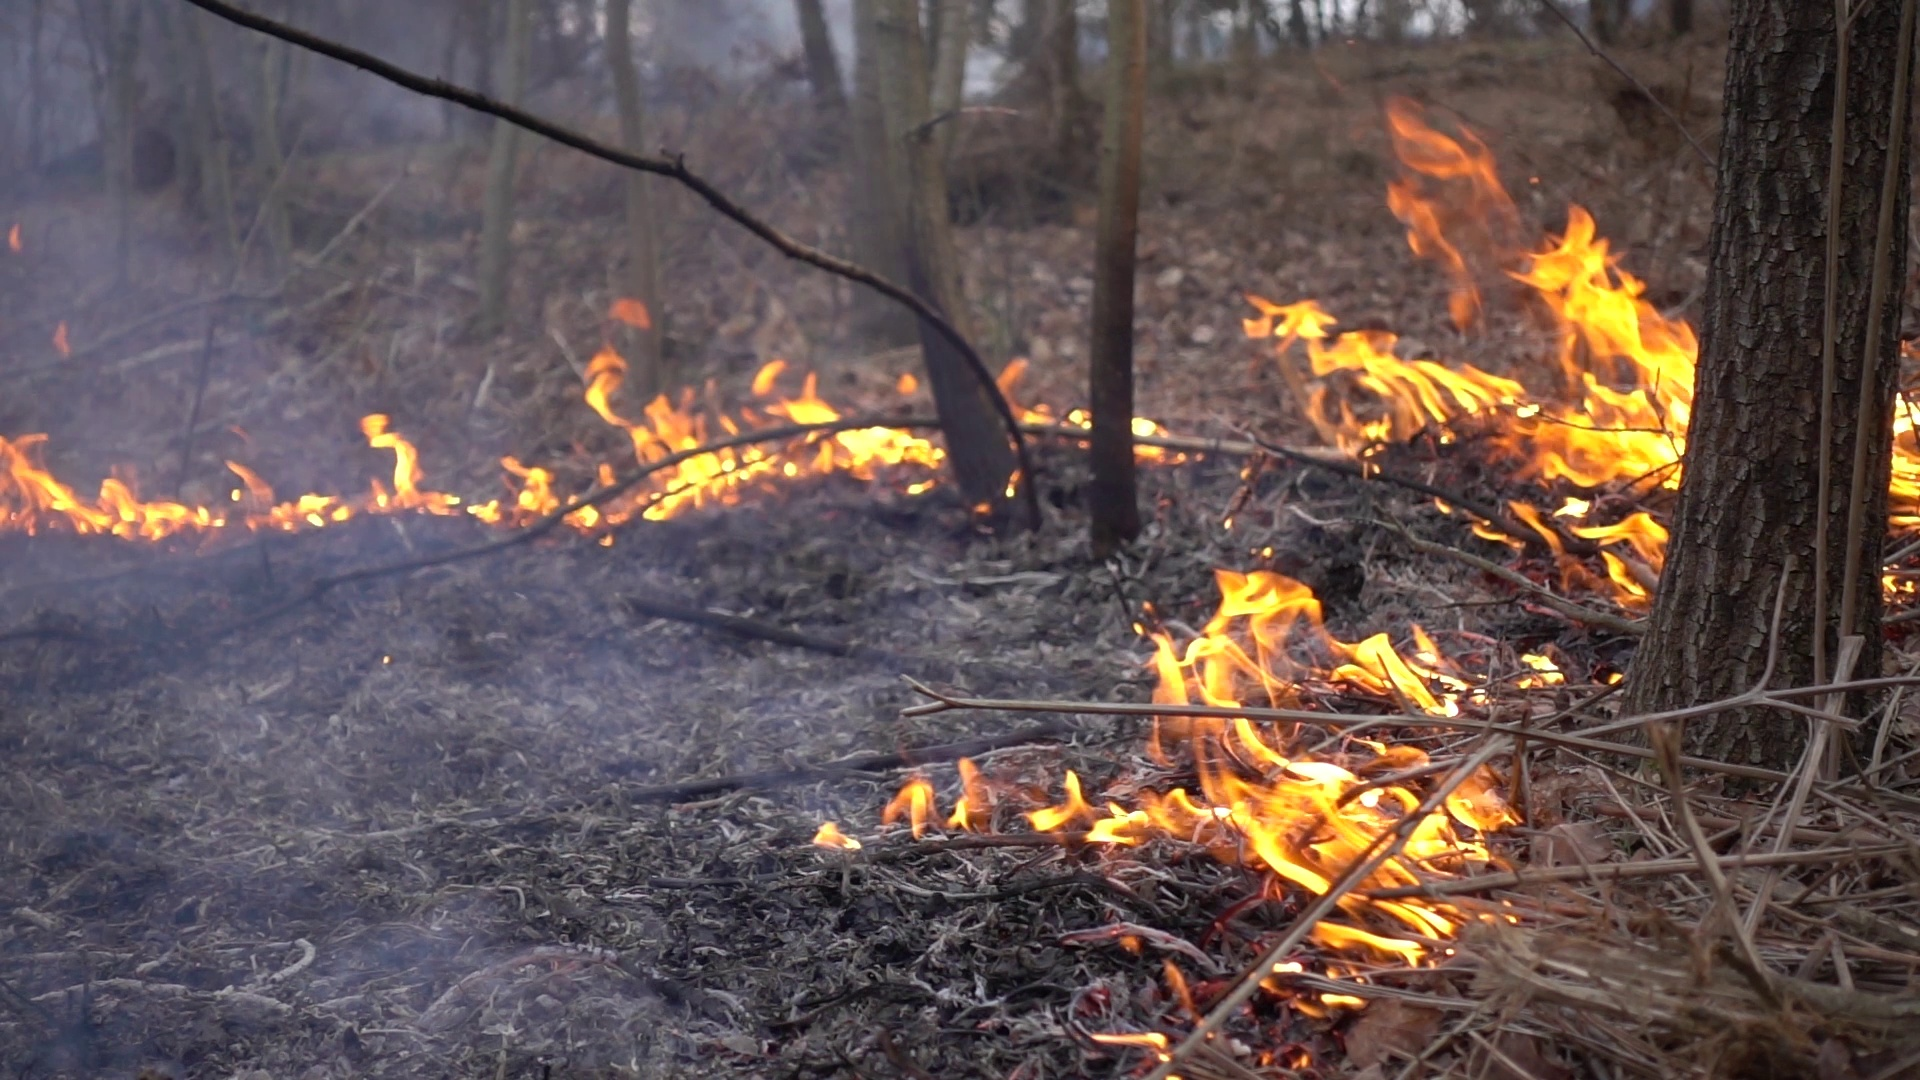fire: (939, 570, 1516, 963), (1251, 105, 1696, 566), (583, 345, 922, 516), (12, 447, 175, 534), (356, 414, 454, 516), (216, 469, 334, 525), (1892, 392, 1920, 502)
